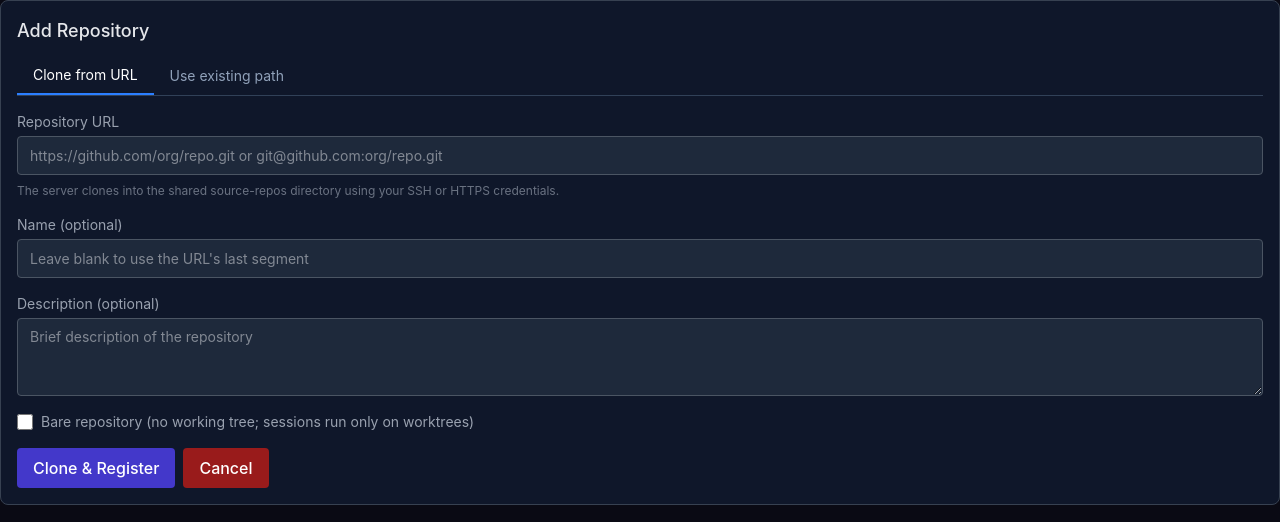
Test: AddRepositoryForm › Use existing path tab (delegates to parent onSubmit) › disables form when isPending is true
The width and height of the screenshot is (1280, 522).
Click the tab "Use existing path".
click(227, 76)  # box [154,57,300,95]
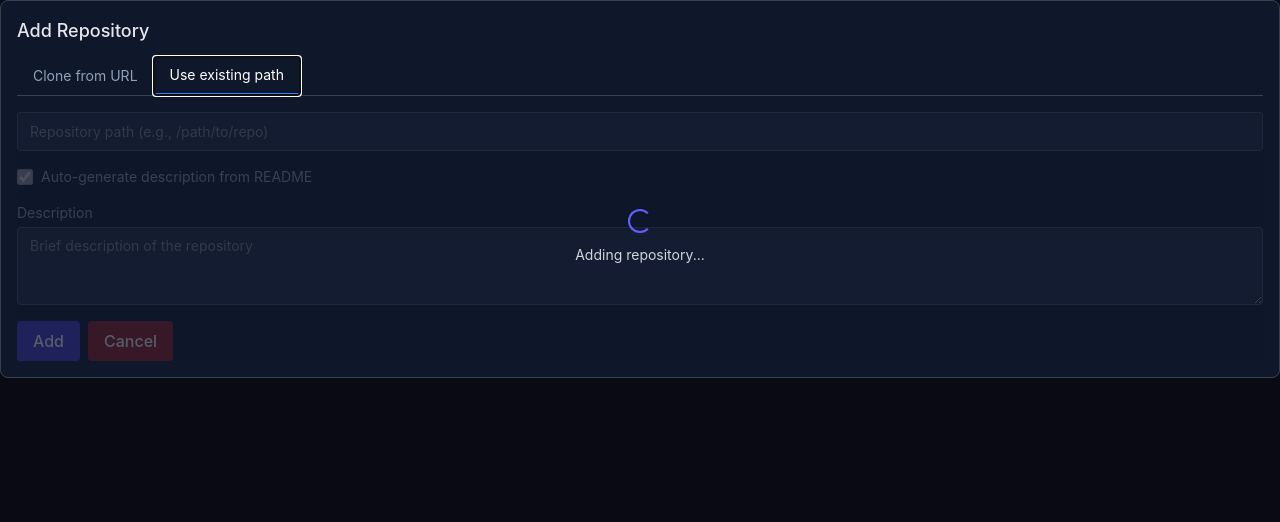
Check: the text "Adding repository..." is shown, box [575,244,705,264]
Check: the element with placeholder "Repository path" is disabled, box [17,112,1263,361]
